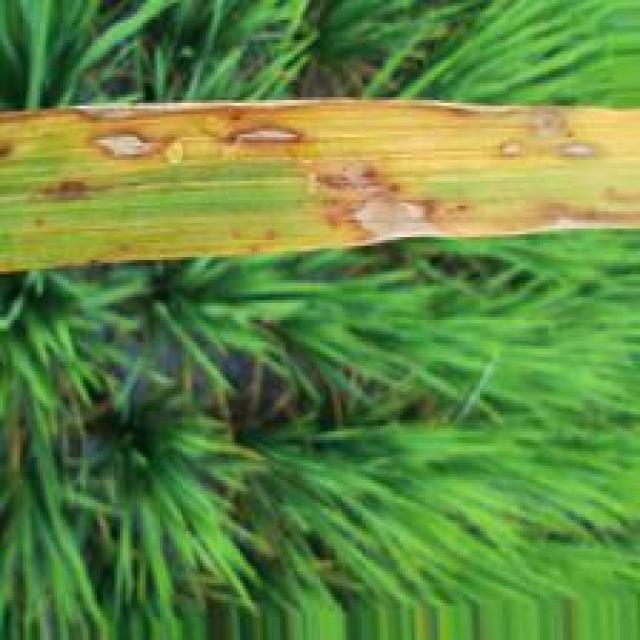Bacterial_Leaf_Blight: (0, 99, 640, 274)
